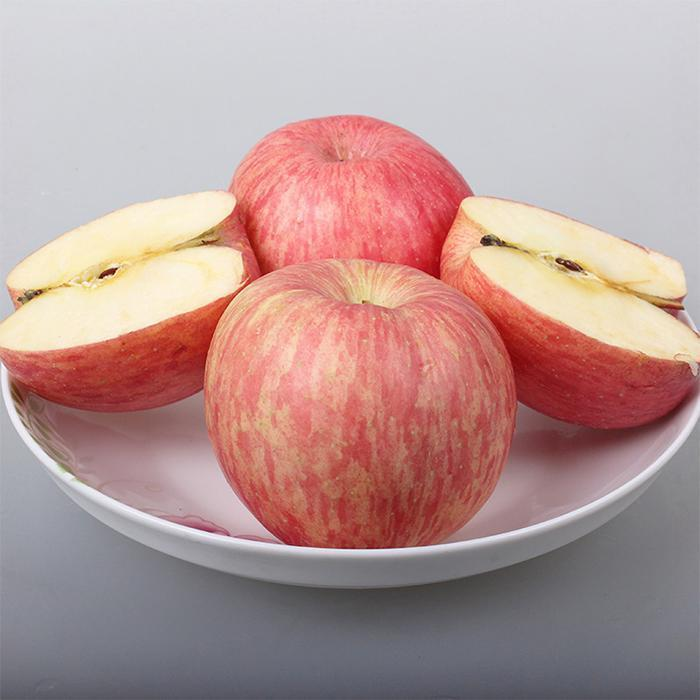apple: (206, 262, 522, 541), (224, 110, 482, 276)
